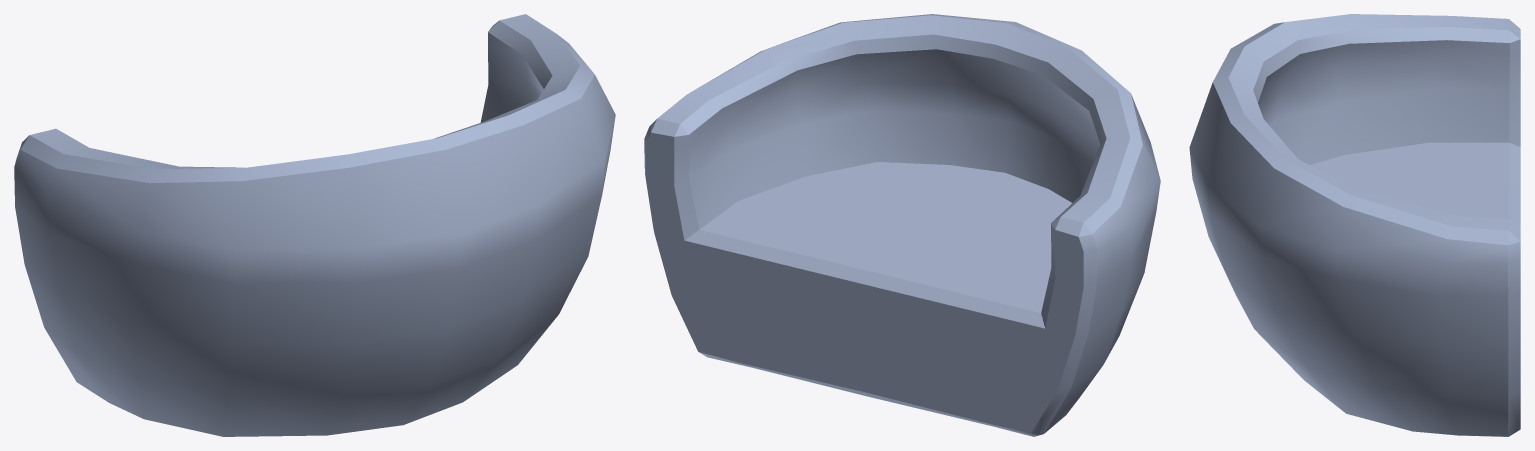
The model's file is fbx_club_roundsofa2.fbx.
3 renders of one model, left to right at view 1: azimuth 30°, elevation 25°; view 2: azimuth 150°, elevation 25°; view 3: azimuth 270°, elevation 25°, orthographic. The views are drawn at different scales.
Parts seen in each view (by area): view 1: fbx_club_roundsofa2; view 2: fbx_club_roundsofa2; view 3: fbx_club_roundsofa2.
Part boxes in pixels (x1=…): fbx_club_roundsofa2: x1=14, y1=14, x2=615, y2=436; fbx_club_roundsofa2: x1=644, y1=14, x2=1160, y2=436; fbx_club_roundsofa2: x1=1189, y1=14, x2=1520, y2=436.
Bounding box in the file's own units: 1.81 × 1.03 × 1.11.
Materials: 1 (1 with a texture image).
